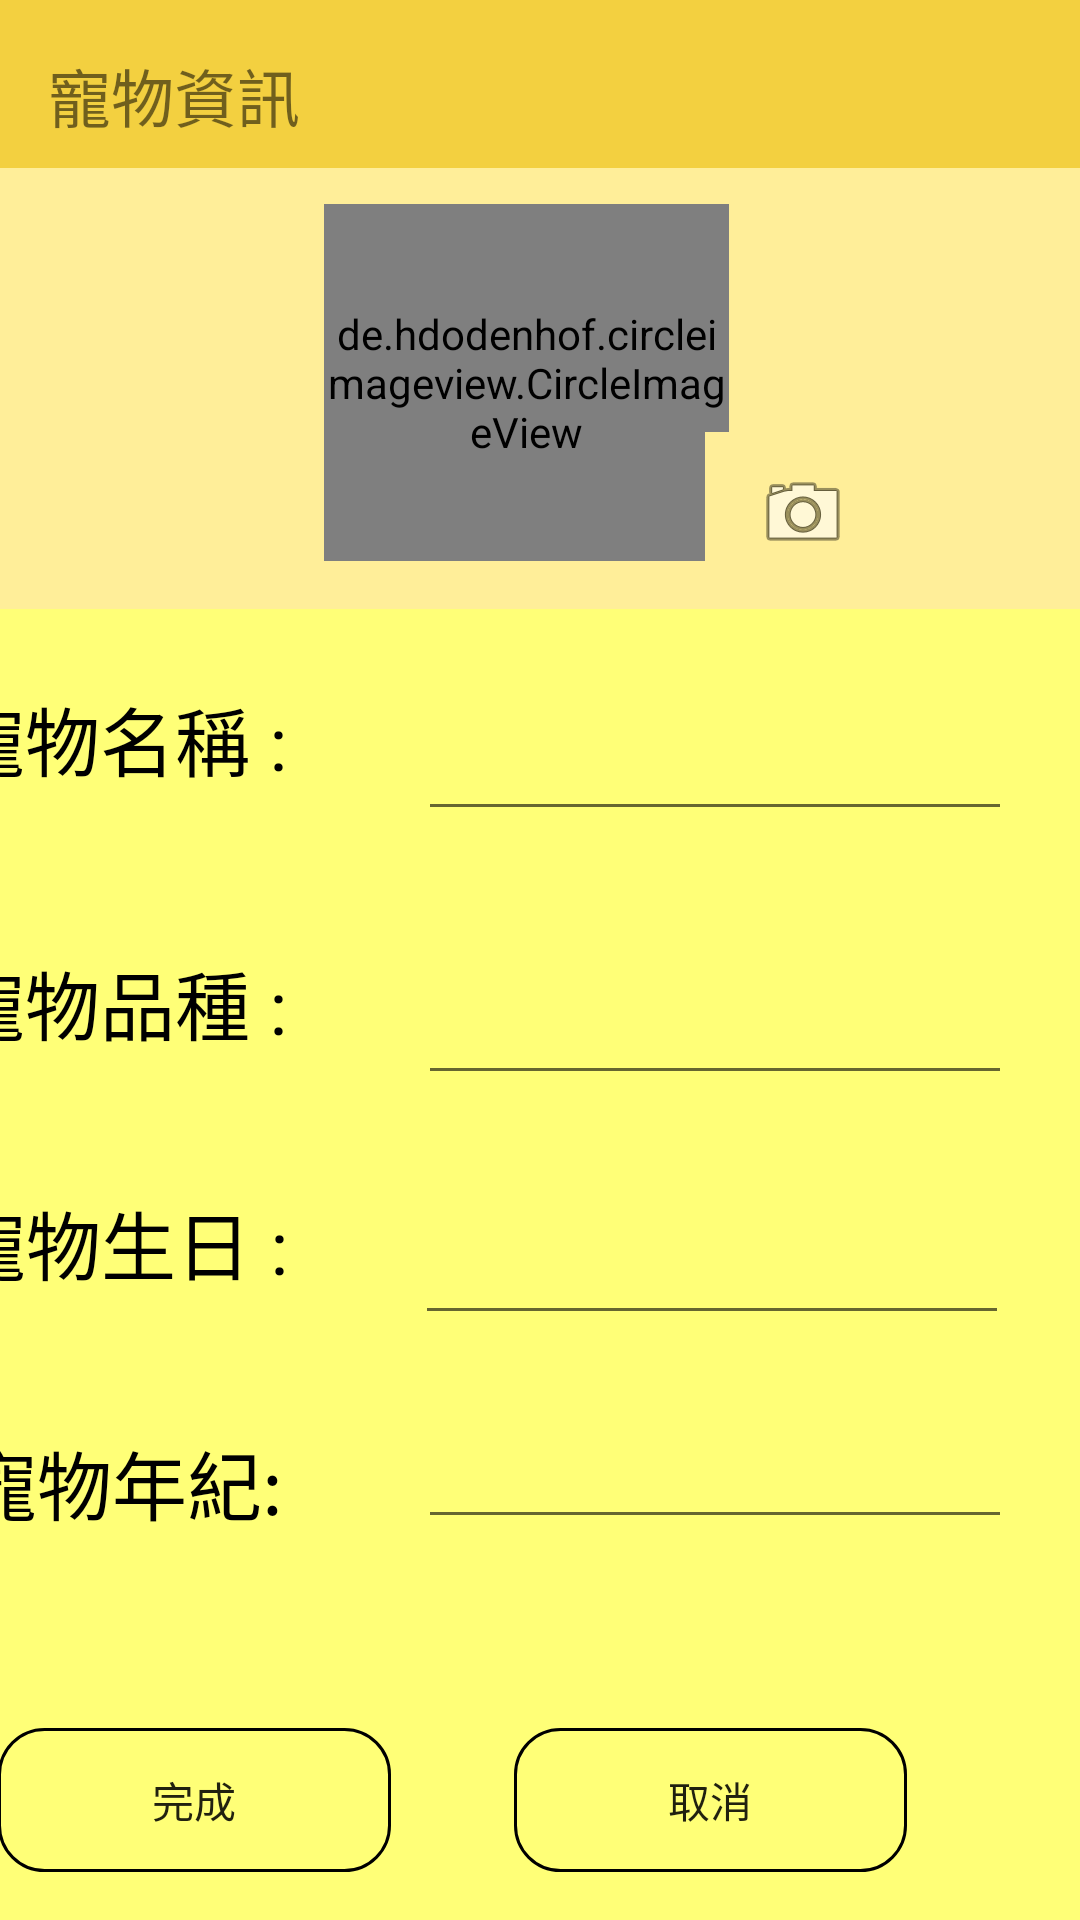

Named icons in this screenshot (1080x1920) and their bounding boxes, (x1, y1, x2, y2):
camera: (766, 482, 840, 541)
